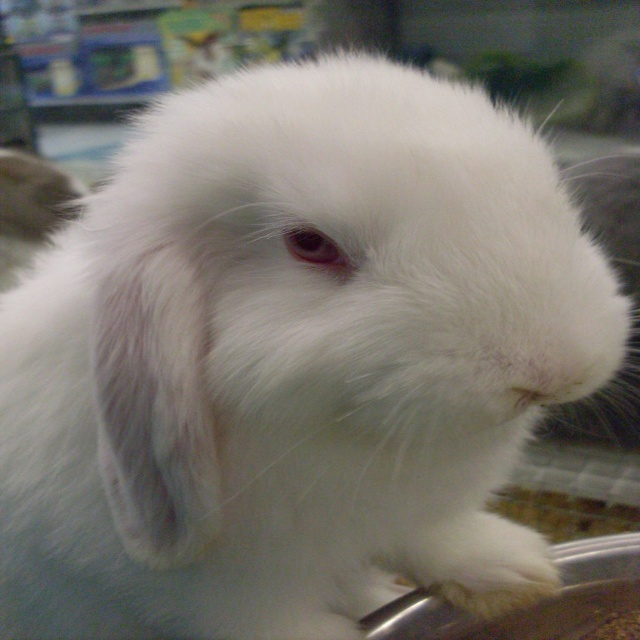Rabbit: (0, 40, 640, 639)
